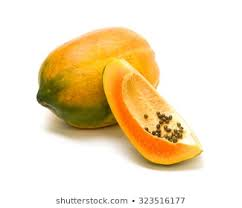papaya: (38, 27, 161, 129), (104, 58, 204, 166)
